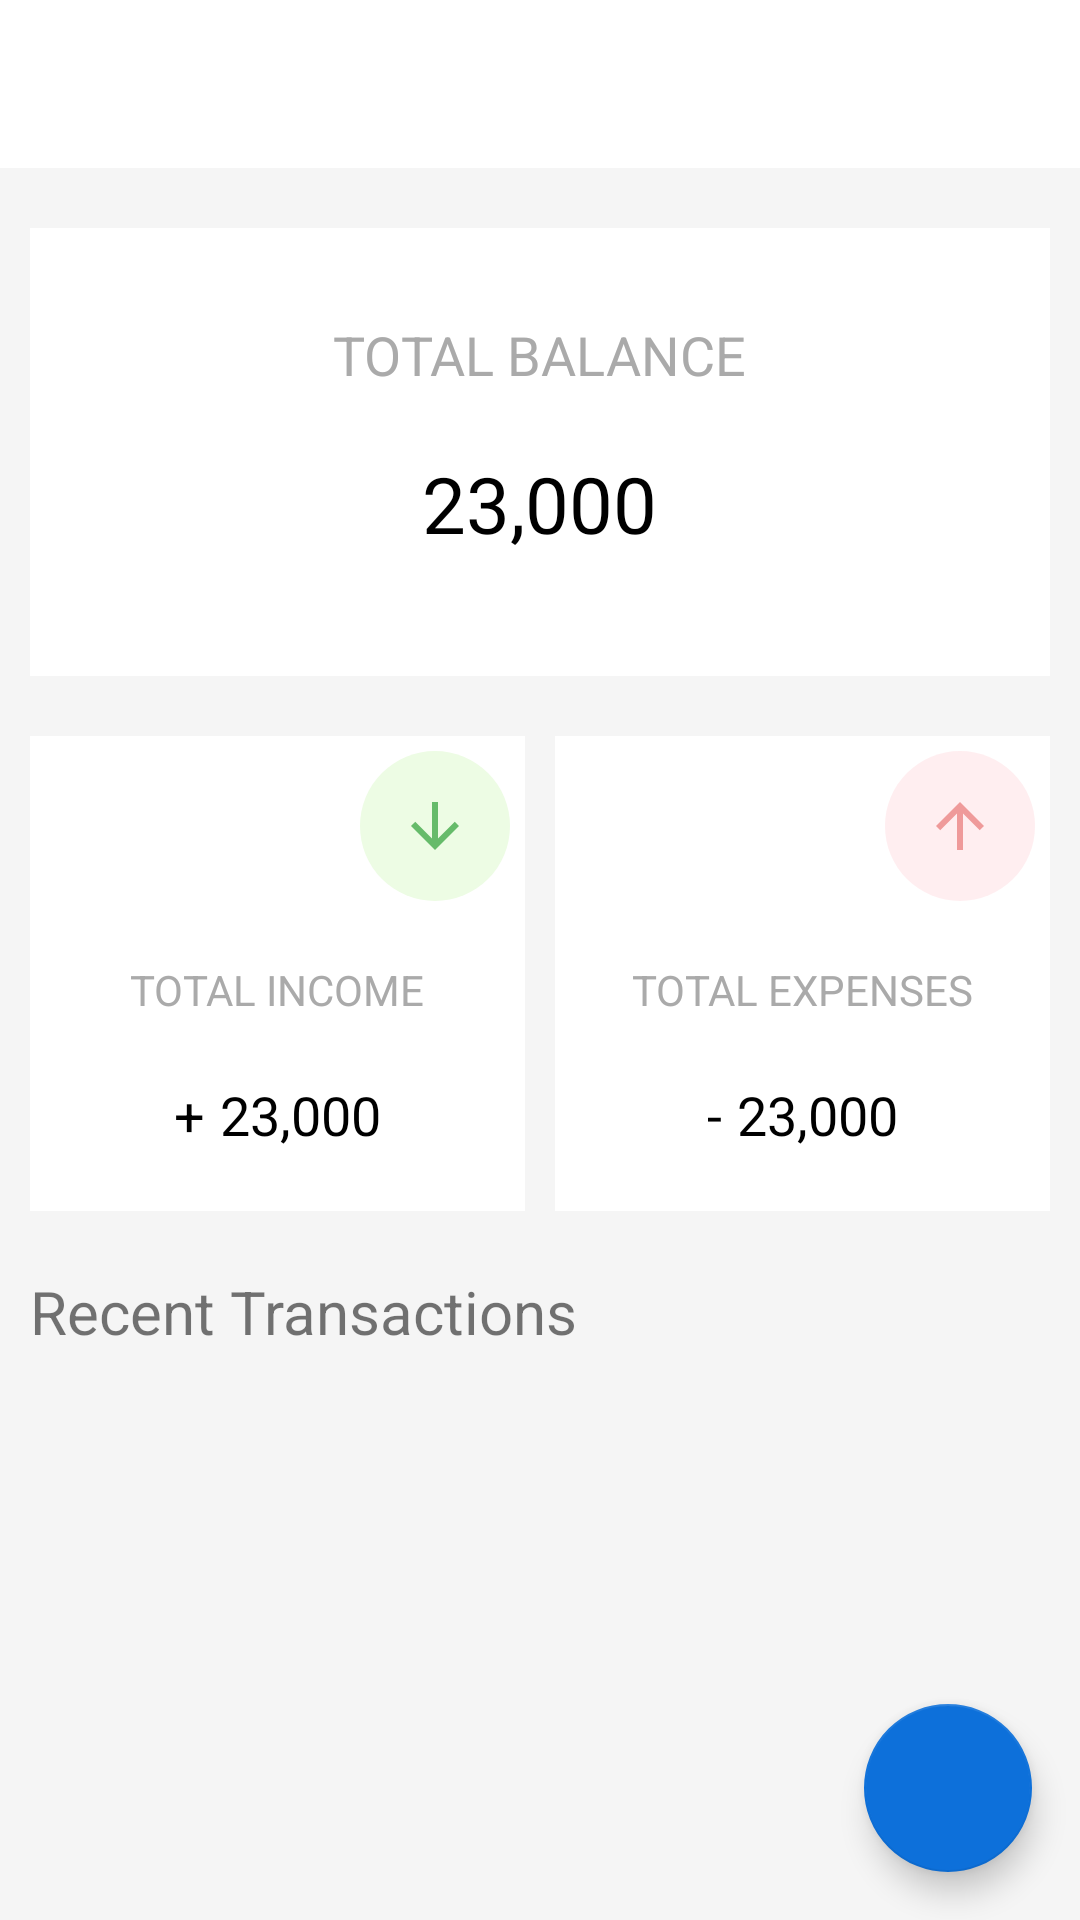

Point at icon controls on the screen. Image size 1080w x 1920h, points as [x,y].
arrow downward: [435,826]
arrow upward: [960,826]
